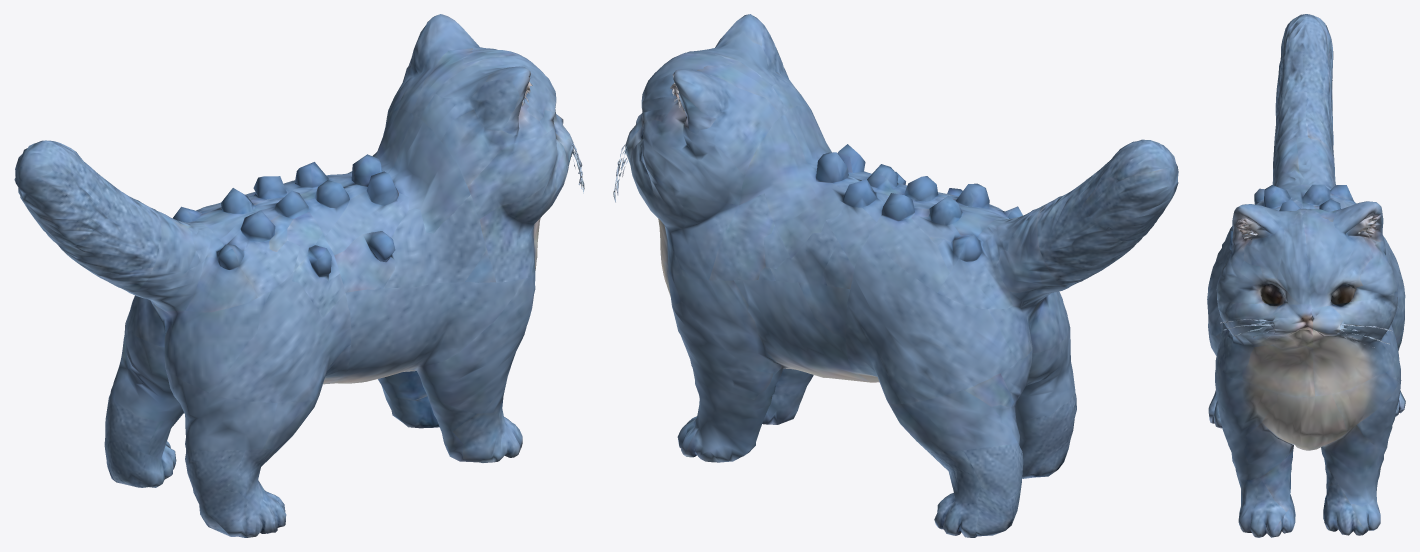
Rendered from CAPOOBUG-lo.glb.
The picture shows the model from 3 angles, left to right: view 1: azimuth 30°, elevation 25°; view 2: azimuth 150°, elevation 25°; view 3: azimuth 270°, elevation 25°; orthographic projection. The views are drawn at different scales.
Parts seen in each view (by area): view 1: tripo_node_a12fdd93-83b8-49a0-8604-7ae4620a8386; view 2: tripo_node_a12fdd93-83b8-49a0-8604-7ae4620a8386; view 3: tripo_node_a12fdd93-83b8-49a0-8604-7ae4620a8386.
Boxes of the visible parts, x1=… form: tripo_node_a12fdd93-83b8-49a0-8604-7ae4620a8386: x1=14, y1=14, x2=584, y2=537; tripo_node_a12fdd93-83b8-49a0-8604-7ae4620a8386: x1=613, y1=14, x2=1178, y2=537; tripo_node_a12fdd93-83b8-49a0-8604-7ae4620a8386: x1=1207, y1=14, x2=1405, y2=537.
Size of the model in its own units: 1.43 by 0.9957 by 0.5321.
1 material, 1 textured.
